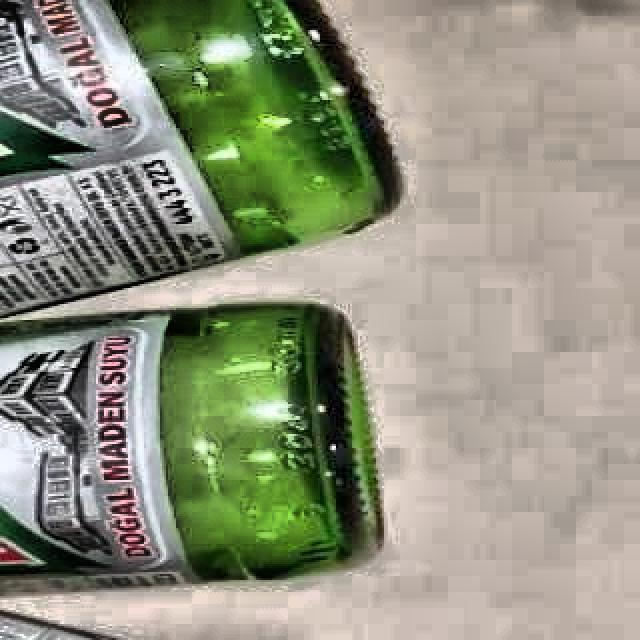glass: (0, 304, 381, 597)
